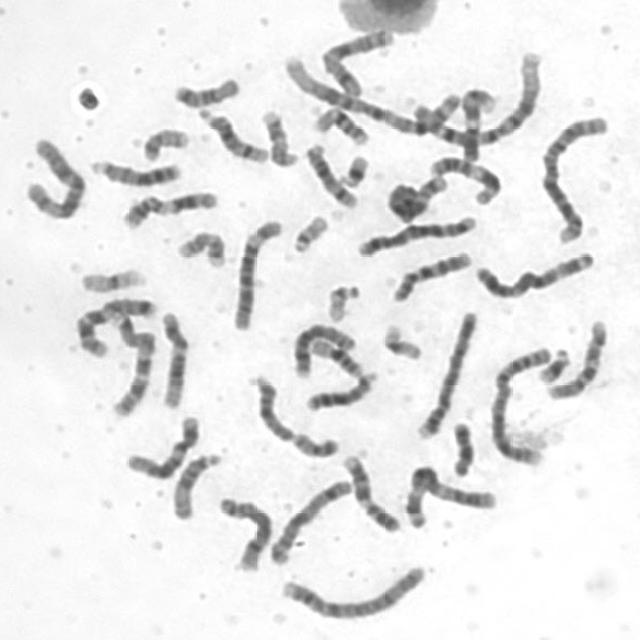A1: (278, 48, 462, 137), (405, 45, 545, 149)
A2: (534, 108, 613, 246), (484, 341, 554, 468)
A3: (397, 459, 500, 531), (468, 244, 598, 300)
B4: (272, 558, 429, 622), (410, 305, 480, 441)
B5: (350, 209, 479, 258), (380, 168, 450, 224)
C10: (540, 313, 612, 402), (385, 245, 474, 304)
C11: (115, 184, 220, 231), (424, 151, 504, 206)
C12: (119, 409, 202, 482), (154, 305, 190, 410)
C6: (226, 212, 286, 332), (18, 130, 88, 221)
C7: (70, 289, 160, 359), (103, 307, 157, 419)
C8: (211, 490, 275, 574), (286, 317, 358, 380)
C9: (336, 447, 401, 534), (456, 88, 497, 164)
D13: (300, 365, 380, 413), (84, 152, 183, 188)
D14: (192, 101, 270, 164), (299, 137, 360, 210)
D15: (165, 448, 224, 522), (246, 369, 297, 444)
E16: (306, 100, 371, 147), (304, 333, 366, 379)
E17: (255, 103, 300, 169), (172, 223, 228, 270)
E18: (166, 70, 242, 109), (444, 416, 477, 479)
F19: (73, 261, 148, 295), (376, 318, 424, 362)
F20: (136, 122, 190, 162), (286, 426, 340, 459)
G21: (533, 341, 573, 385), (332, 149, 371, 188)
G22: (286, 208, 332, 254), (321, 278, 363, 324)
X: (262, 474, 354, 567), (315, 23, 396, 98)
